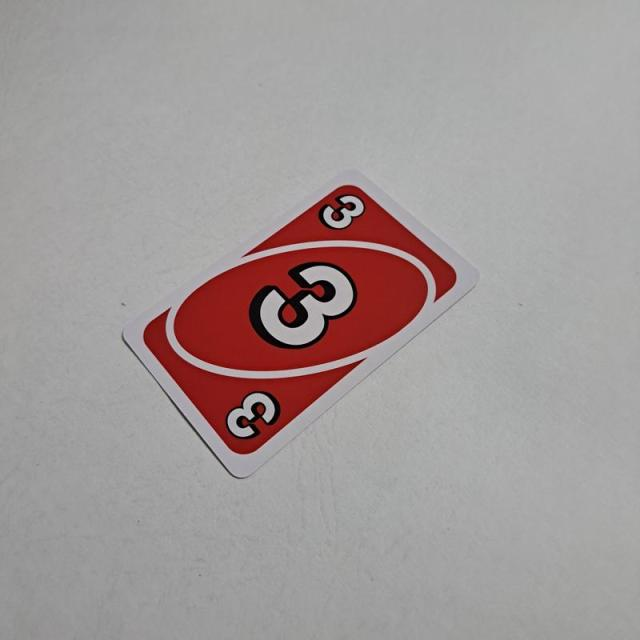Number_3: (316, 188, 370, 233)
Red_Card: (139, 179, 463, 458)
